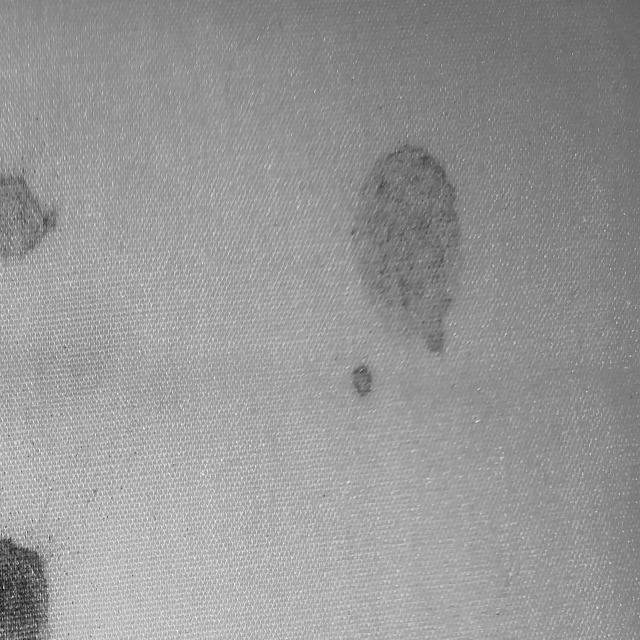Stain: (353, 145, 460, 353), (0, 539, 48, 640), (0, 175, 54, 257), (352, 366, 372, 396)
